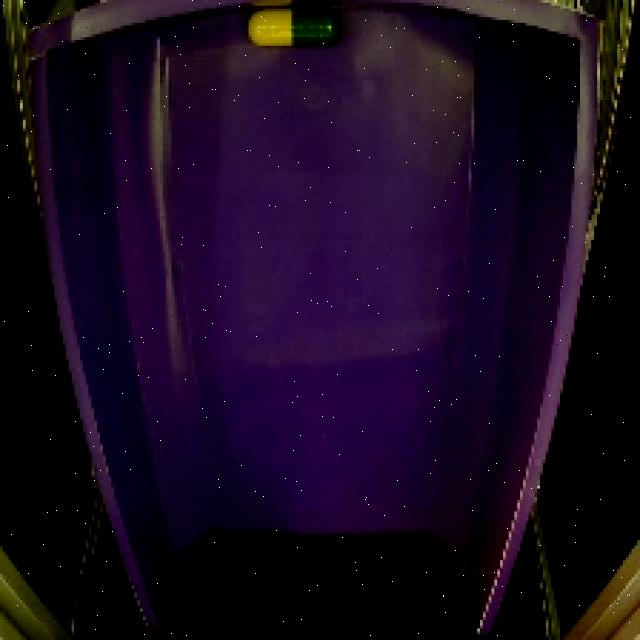small: (241, 0, 343, 58)
